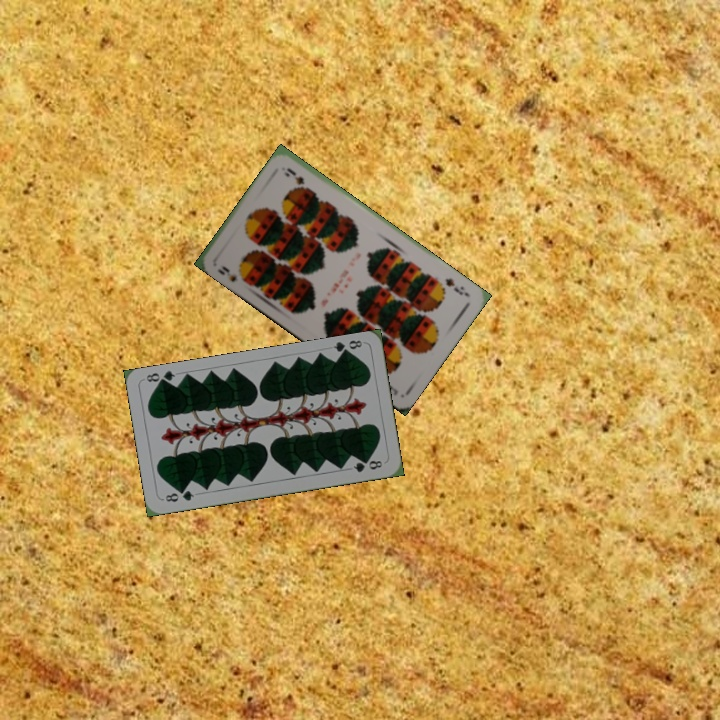G8: (329, 336, 364, 358), (161, 486, 197, 505)
S9: (213, 262, 241, 285), (441, 274, 467, 298)
